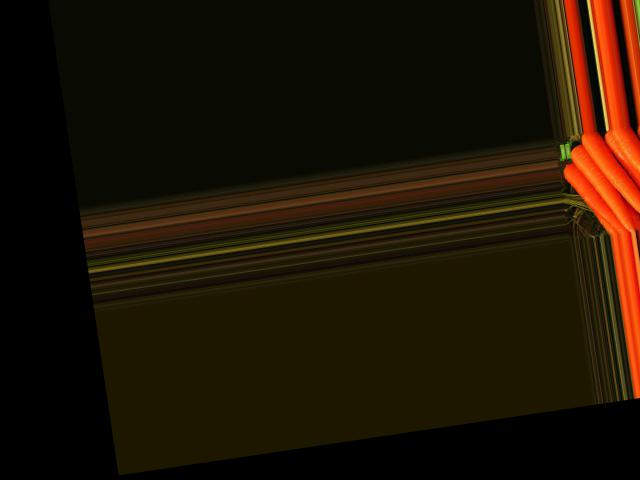carrot: (602, 122, 640, 229)
